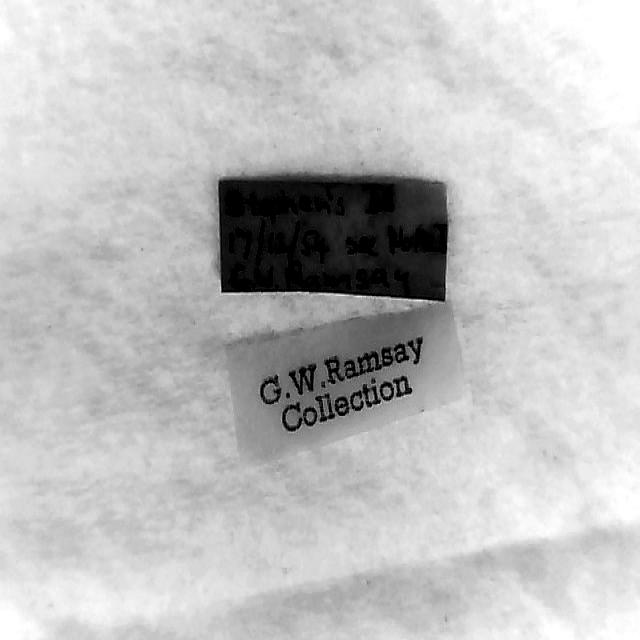hand_label: (219, 180, 448, 299)
typed_label: (229, 305, 464, 464)
